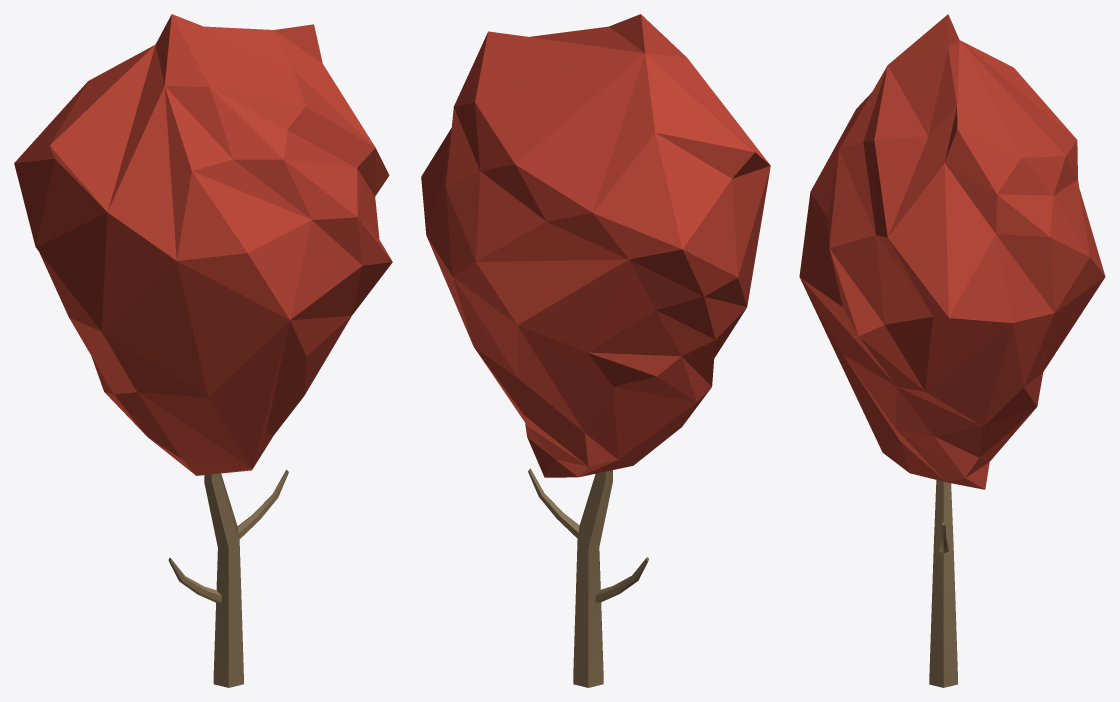
The model's file is tree pink.FBX.
3 renders of one model, left to right at view 1: azimuth 30°, elevation 25°; view 2: azimuth 150°, elevation 25°; view 3: azimuth 270°, elevation 25°, orthographic. The views are drawn at different scales.
Visible parts, largest first — view 1: tree pink; view 2: tree pink; view 3: tree pink.
Boxes of the visible parts, x1,y1,x2,y2 form: tree pink: (14, 14, 392, 687); tree pink: (421, 14, 770, 687); tree pink: (799, 14, 1105, 687).
Bounding box in the file's own units: 101 × 194 × 83.76.
